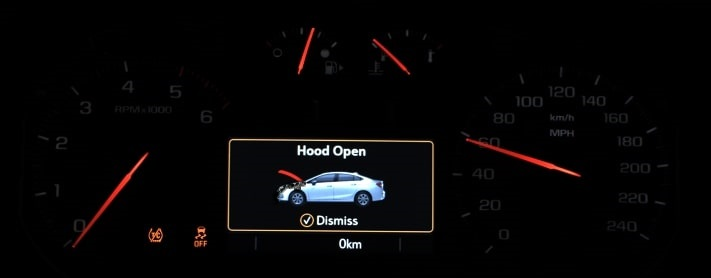Hood Open: (268, 163, 318, 210)
